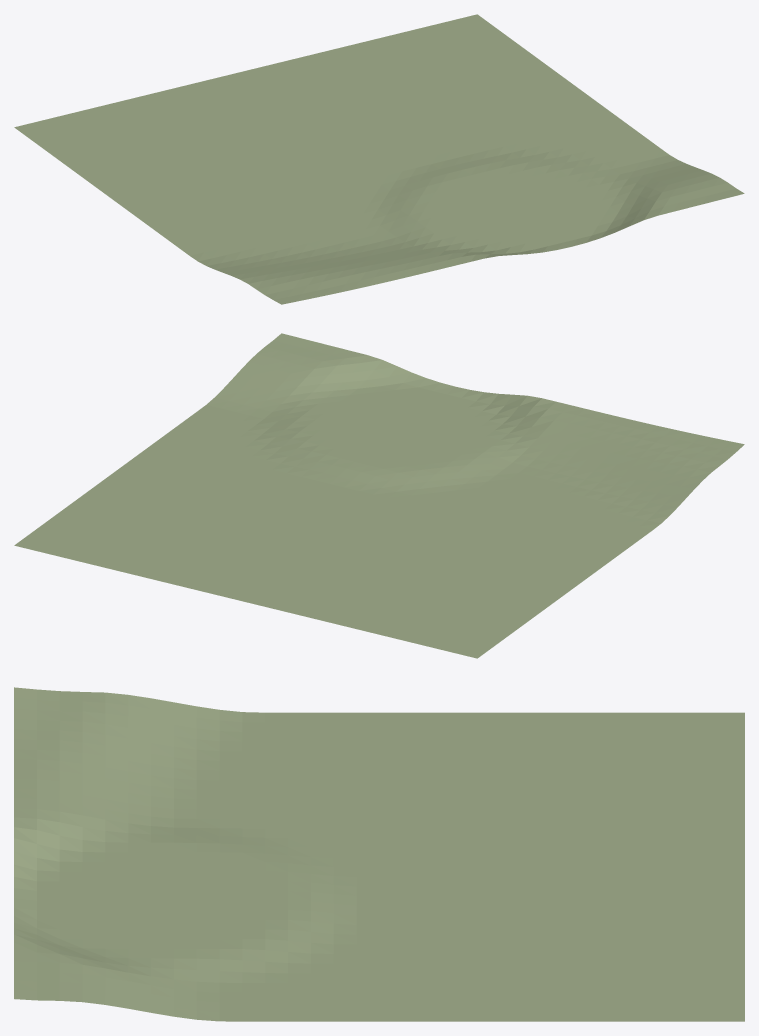
Rendered from coast-0-0.glb.
3 views of the same model, one above another, from view 1: azimuth 30°, elevation 25°; view 2: azimuth 150°, elevation 25°; view 3: azimuth 270°, elevation 25° (orthographic). The views are drawn at different scales.
Parts seen in each view (by area): view 1: coast-0-0; view 2: coast-0-0; view 3: coast-0-0.
Boxes of the visible parts, x1=… form: coast-0-0: x1=14, y1=14, x2=744, y2=304; coast-0-0: x1=14, y1=333, x2=744, y2=658; coast-0-0: x1=14, y1=687, x2=744, y2=1021.
Size of the model in its own units: 128 by 4.88 by 128.
